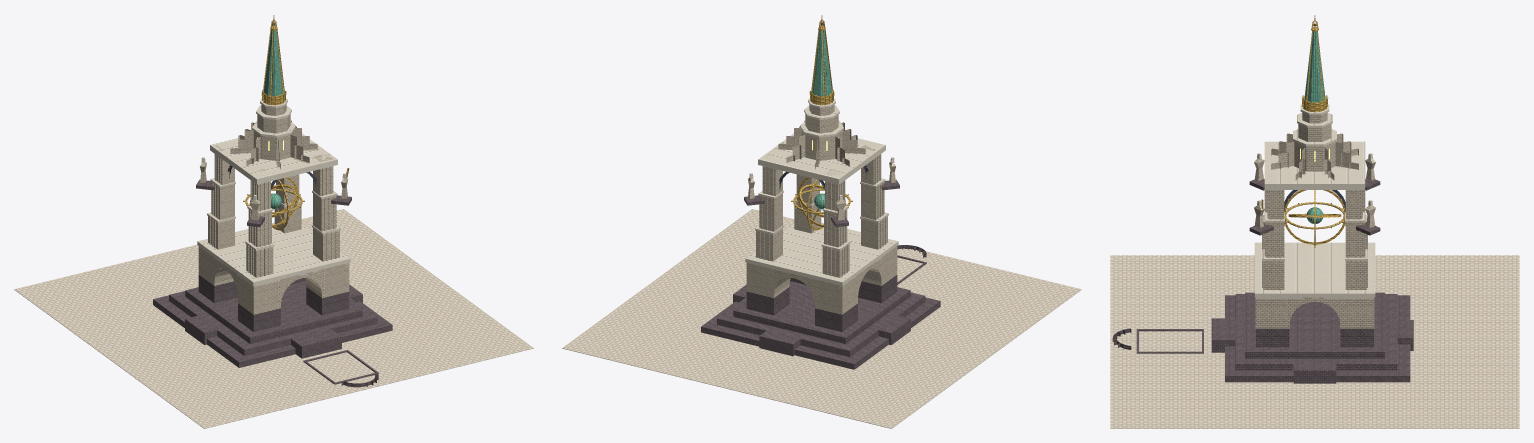
The model's file is great-meridian-mid.glb.
3 views of the same model, side by side, from view 1: azimuth 30°, elevation 25°; view 2: azimuth 150°, elevation 25°; view 3: azimuth 270°, elevation 25° (orthographic). The views are drawn at different scales.
Parts seen in each view (by area): view 1: great_meridian_mid; view 2: great_meridian_mid; view 3: great_meridian_mid.
Boxes of the visible parts, <box> form: great_meridian_mid: <box>14,15,533,428</box>; great_meridian_mid: <box>562,15,1081,428</box>; great_meridian_mid: <box>1110,15,1519,428</box>.
Bounding box in the file's own units: 120 × 106 × 120.
Materials: 9 (9 with a texture image).
